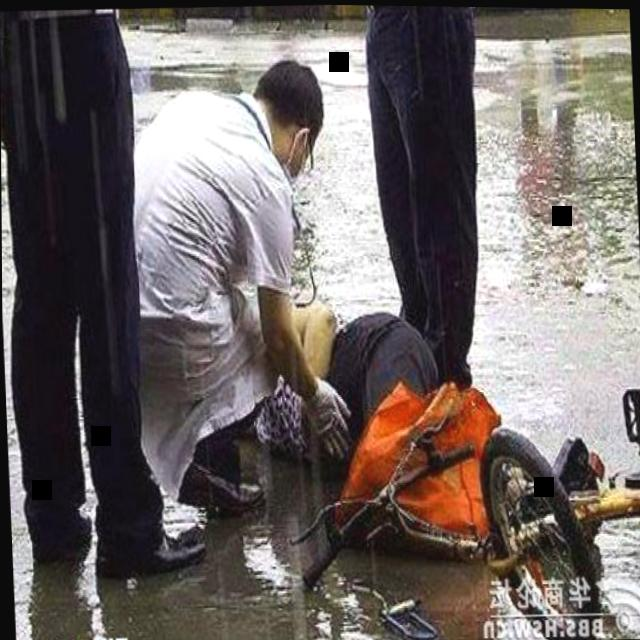Fall-Detected: (248, 272, 473, 498)
